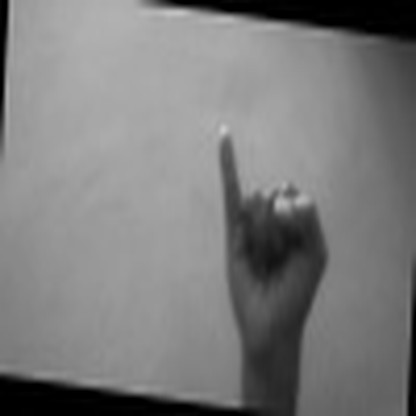i: (206, 109, 339, 344)
